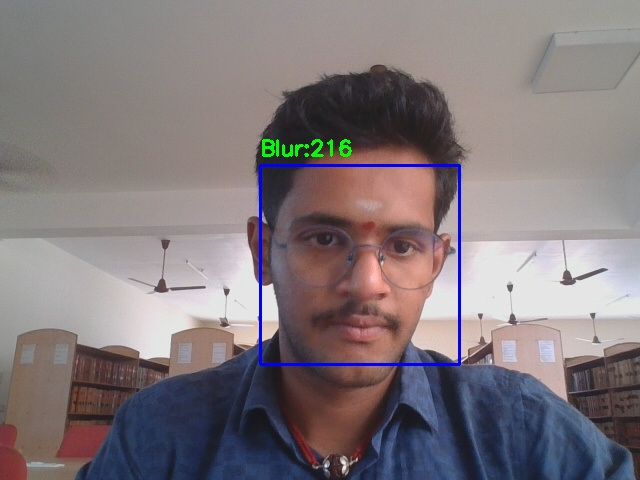real: (260, 165, 459, 364)
